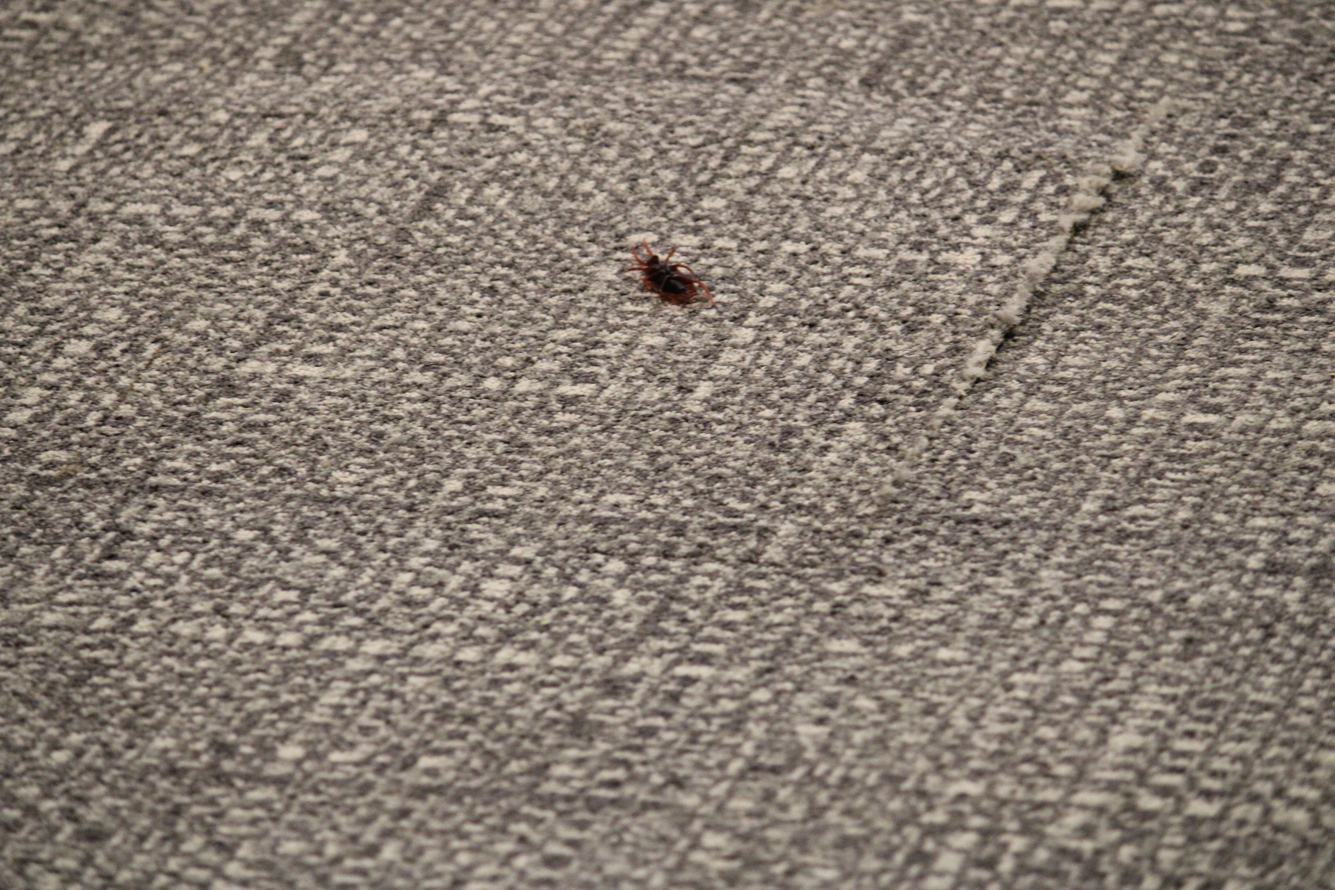cockroach: (630, 239, 700, 313)
